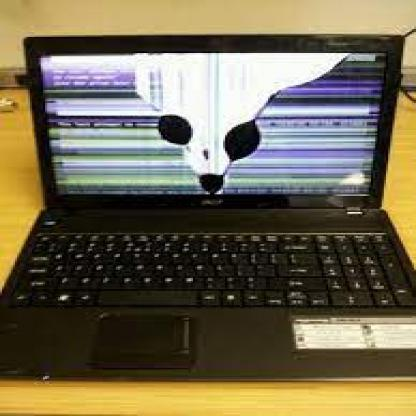crack: (124, 52, 358, 191)
lines: (36, 54, 138, 206), (270, 93, 375, 193)
